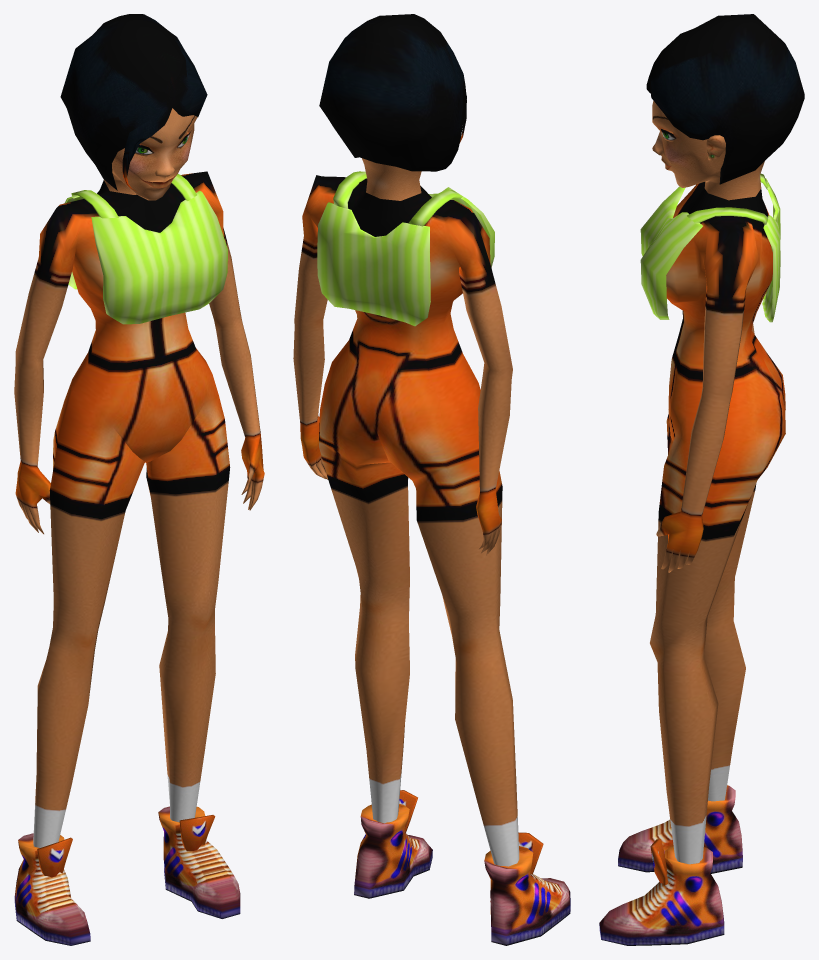
The model's file is Leah.glb.
3 views of the same model, side by side, from view 1: azimuth 30°, elevation 25°; view 2: azimuth 150°, elevation 25°; view 3: azimuth 270°, elevation 25° (orthographic). The views are drawn at different scales.
Visible parts, largest first — view 1: Leah; view 2: Leah; view 3: Leah.
Boxes of the visible parts, bbox=[...] form: Leah: bbox=[14, 14, 264, 945]; Leah: bbox=[293, 14, 570, 945]; Leah: bbox=[599, 14, 804, 945].
Bounding box in the file's own units: 1.54 × 5.34 × 1.11.
1 material, 1 textured.
